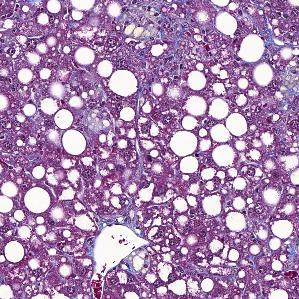fibrosis: (134, 5, 202, 52)
